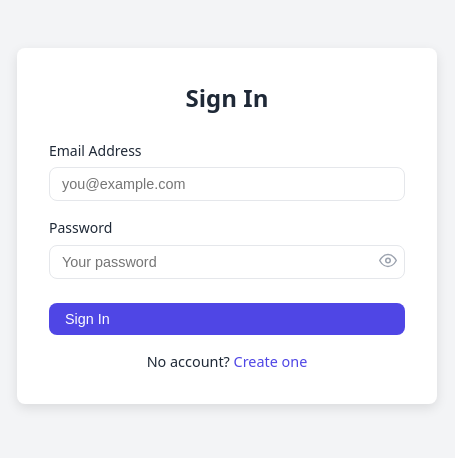
Test: LoginPage › shows error on login failure
Type "a@b.com" into the field labelled "Email Address".
click(227, 184); type("a@b.com")  # box left=49, top=167, right=405, bottom=201
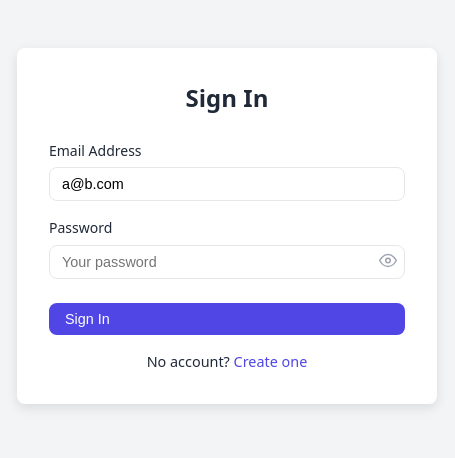
Type "wrong" into the password field labelled "Password".
click(227, 262); type("wrong")  # box left=49, top=245, right=405, bottom=279
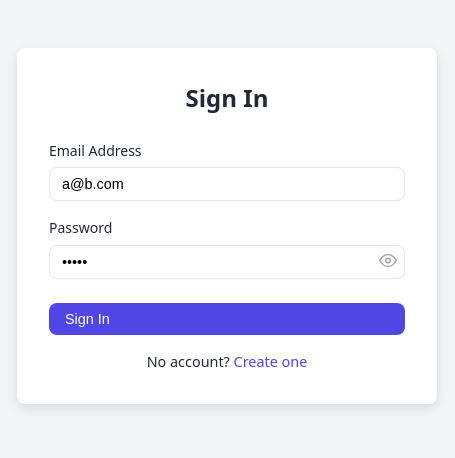
Click the button "Sign In".
click(87, 319)  # box left=49, top=303, right=405, bottom=335
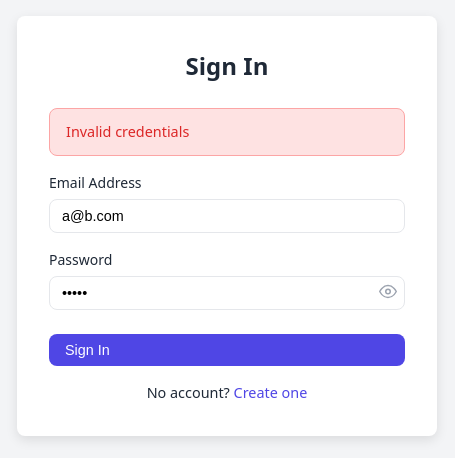
Check: the text "Invalid credentials" is shown, box left=49, top=108, right=405, bottom=156
